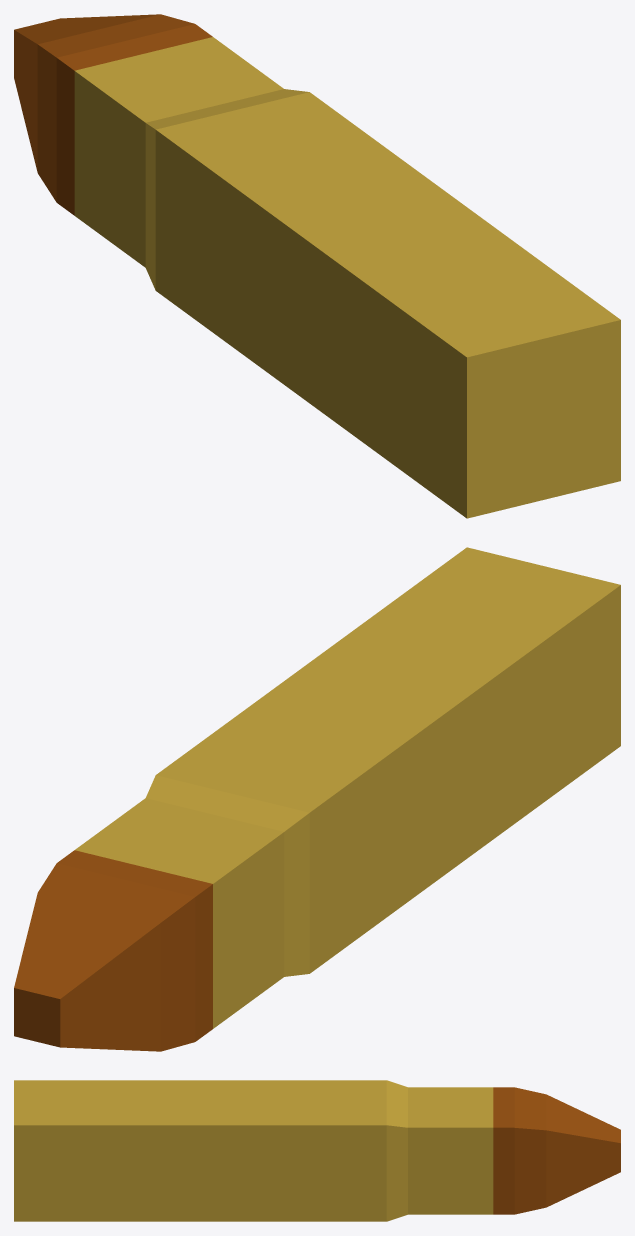
The model's file is bullet.glb.
3 views of the same model, one above another, from view 1: azimuth 30°, elevation 25°; view 2: azimuth 150°, elevation 25°; view 3: azimuth 270°, elevation 25° (orthographic). The views are drawn at different scales.
Parts seen in each view (by area): view 1: cube (×6); view 2: cube (×6); view 3: cube (×6).
Part boxes in pixels (box(x1,y1,x2,y2)): cube (×6): box(14, 14, 620, 518); cube (×6): box(14, 547, 620, 1051); cube (×6): box(14, 1080, 620, 1221).
Bounding box in the file's own units: 0.0625 × 0.0625 × 0.3562.
1 material, 1 textured.
